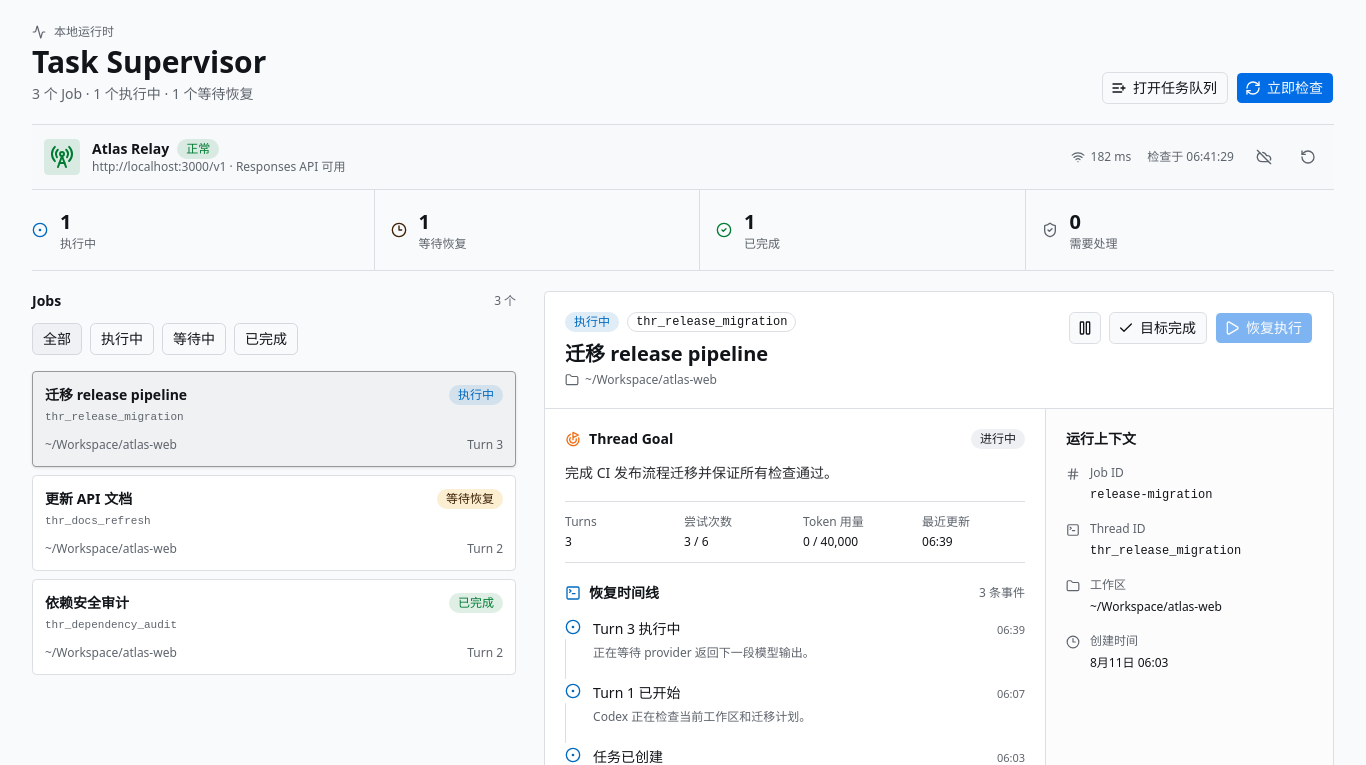
Test: SupervisorDashboard › recovers a waiting job on its existing thread and completes the goal
Check: the heading "Task Supervisor" is shown, box [32, 44, 266, 80]
Check: the text "thr_release_migration" below "Jobs" is shown, box [45, 411, 184, 423]
Click the button named "标记 Provider 故障": x=1264, y=157 [1250, 143, 1278, 171]
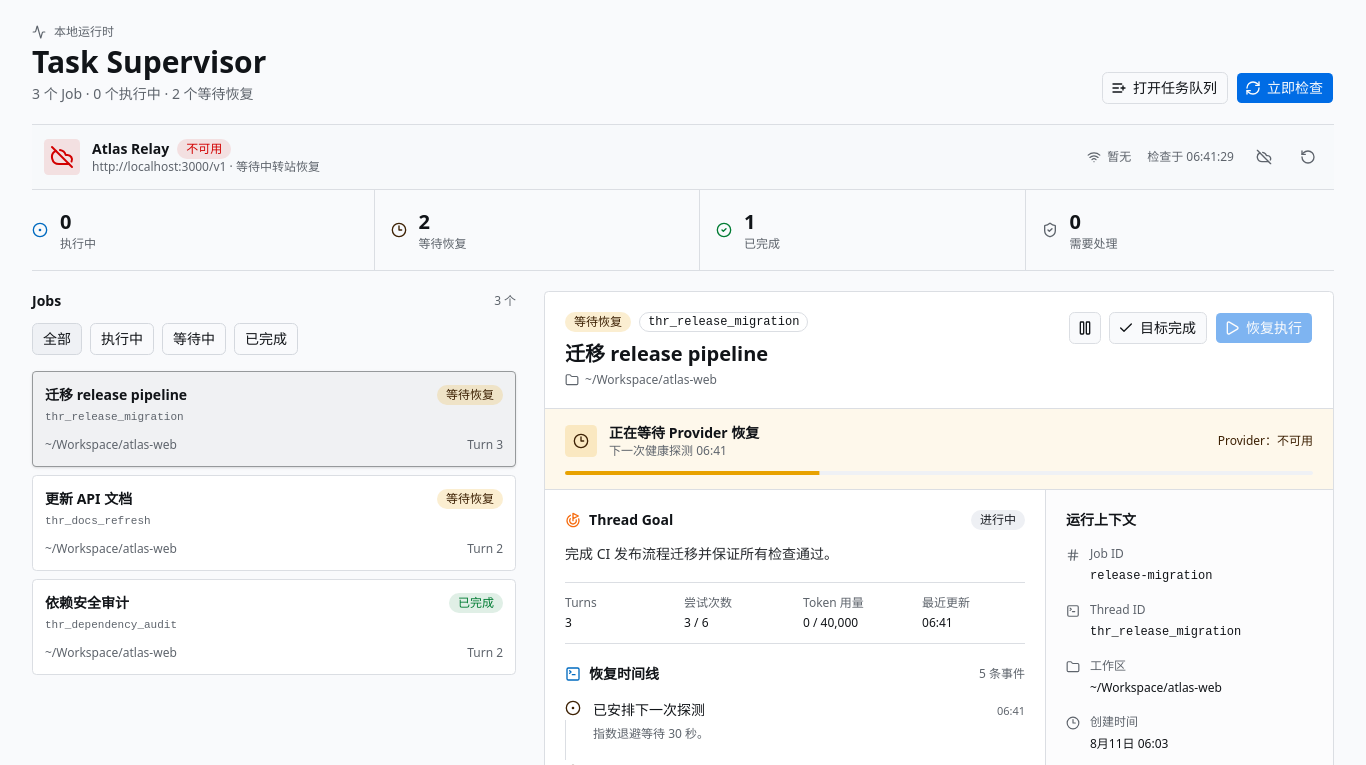
Check: the button "恢复执行" is disabled, box [1215, 312, 1313, 344]
Check: the text "正在等待 Provider 恢复" is shown, box [609, 423, 759, 443]
Click the button "立即检查": x=1285, y=88 [1236, 72, 1334, 104]
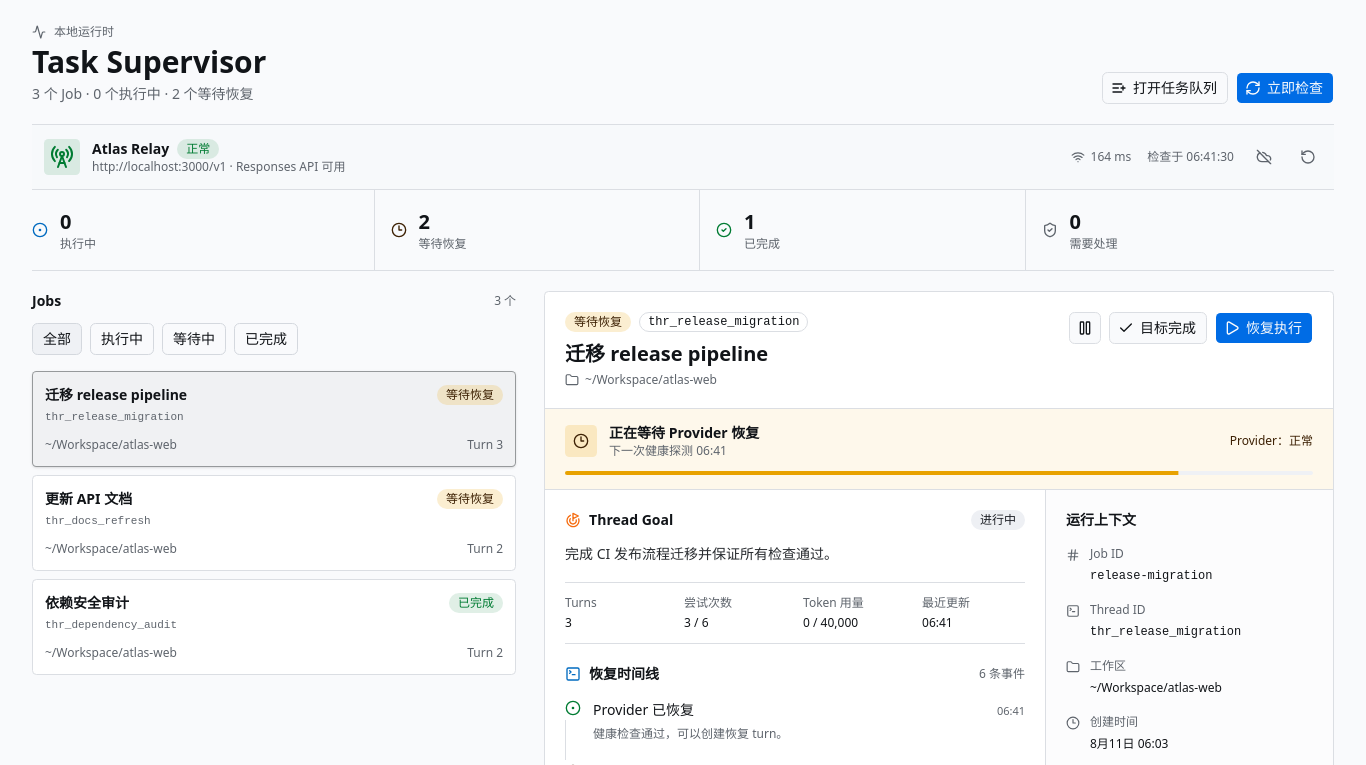
Check: the button "恢复执行" is enabled
Click the button "恢复执行": x=1264, y=328 [1215, 312, 1313, 344]
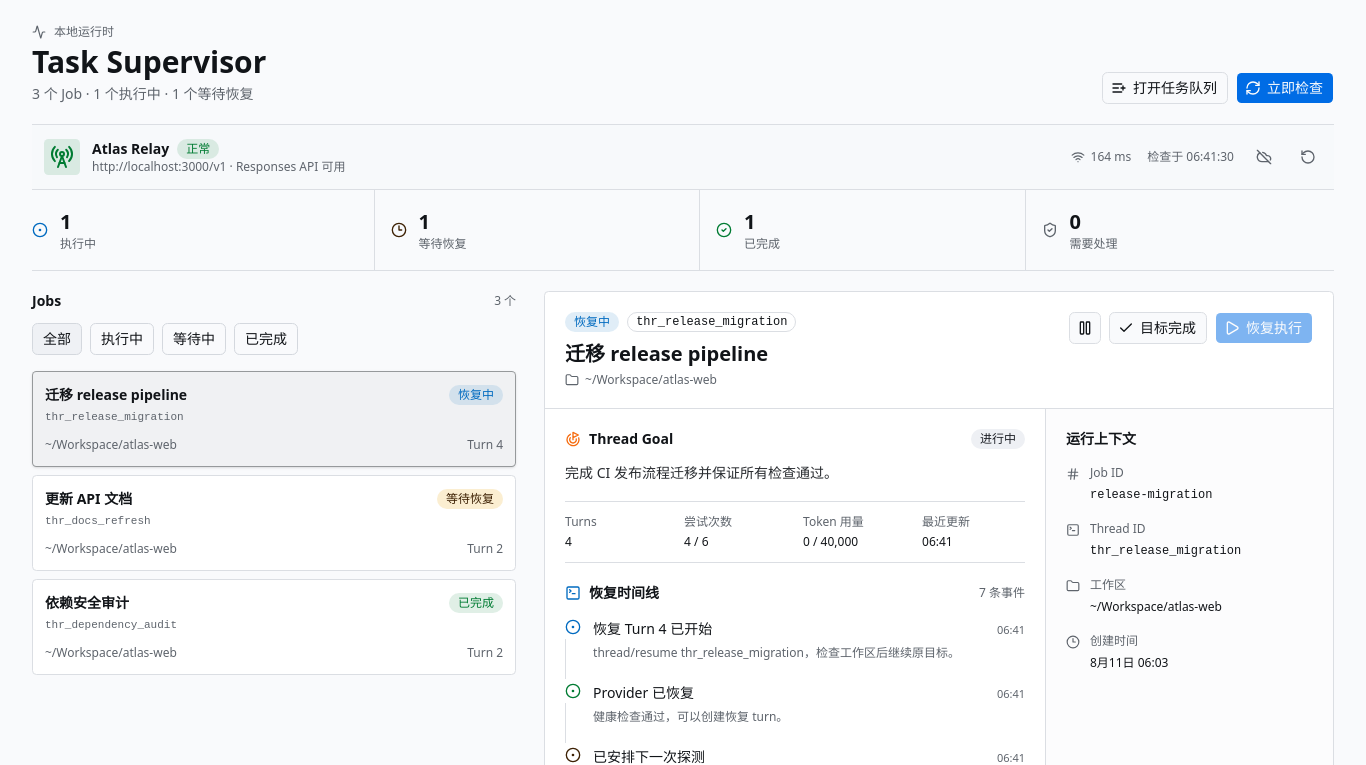
Check: the text "thr_release_migration" below "Jobs" is shown, box [45, 411, 184, 423]
Check: the 2nd icon "恢复中" is shown, box [449, 385, 503, 405]
Click the button "目标完成": x=1158, y=328 [1109, 312, 1207, 344]
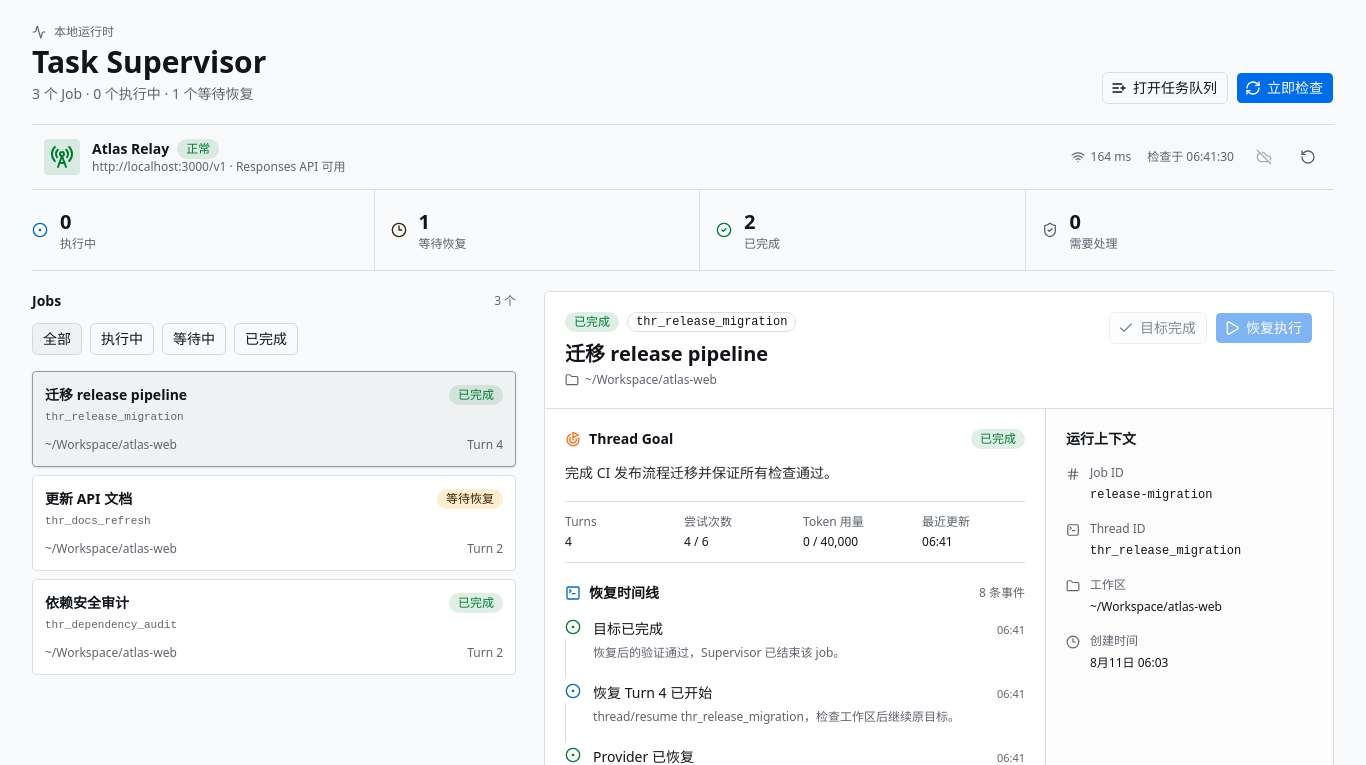
Check: the text "已完成" is shown, box [744, 236, 780, 252]
Check: the button "目标完成" is disabled, box [1109, 312, 1207, 344]
